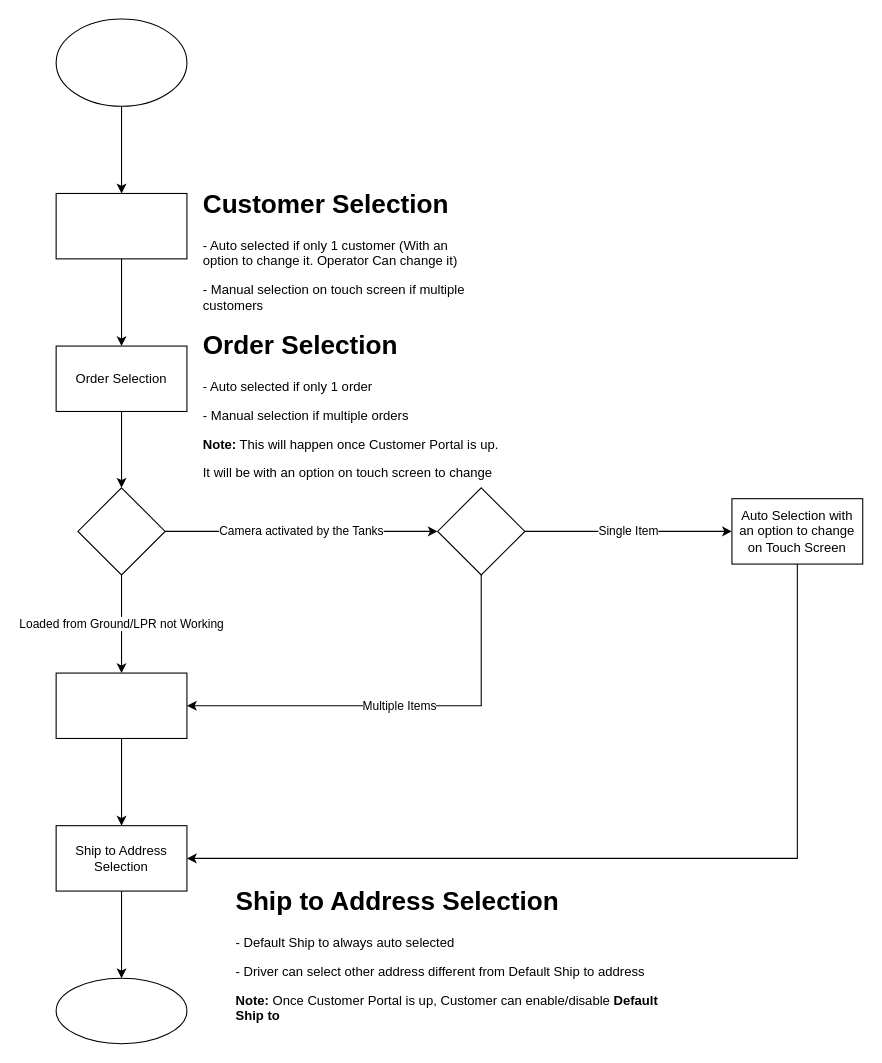
Image size: 882x1063. Some labels were removed from this diagram. Each missing label, with the centre of its shape:
"*Customer Selection" goes at pixel 121 225.
"Manual Item(s) Selection on Touchscreen" goes at pixel 121 705.
